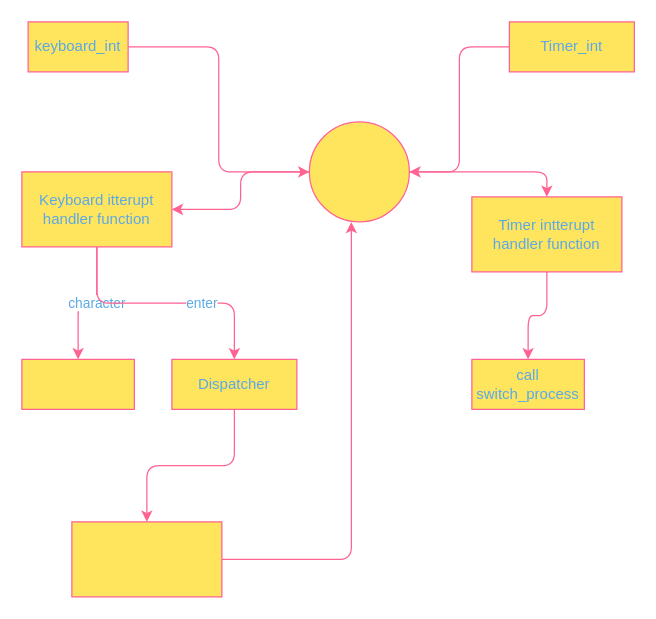
Image size: 656x619. Some labels were removed from this diagram. Each missing label, with the centre of its shape:
add carachter to buffer: point 77,383
Call the appropriate function in the kernel: point 146,559
Kernel: point 358,171
